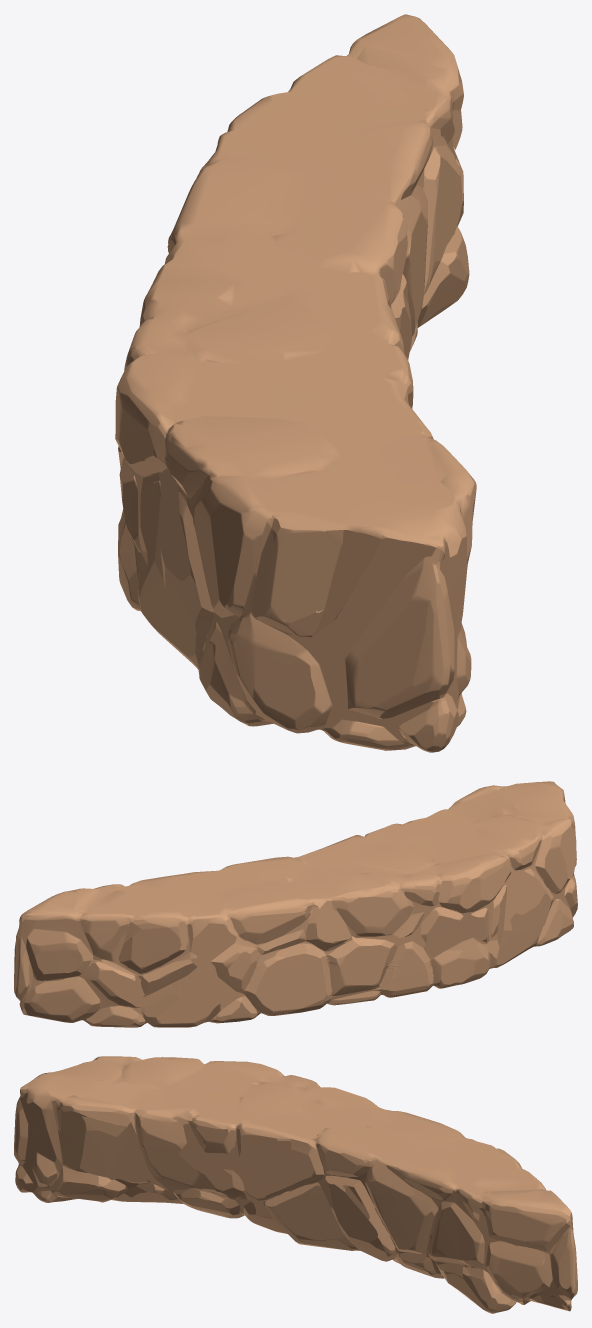
The picture shows the model from 3 angles, top to bottom: view 1: azimuth 30°, elevation 25°; view 2: azimuth 150°, elevation 25°; view 3: azimuth 270°, elevation 25°; orthographic projection. The views are drawn at different scales.
Visible parts, largest first — view 1: Mesh_5_LOD0; view 2: Mesh_5_LOD0; view 3: Mesh_5_LOD0.
Part boxes in pixels (x1,y1,x2,y2): Mesh_5_LOD0: [115, 14, 476, 752]; Mesh_5_LOD0: [14, 781, 577, 1027]; Mesh_5_LOD0: [14, 1056, 577, 1313].
Size of what is drawn, in the model's own units: 4804 by 1634 by 7081.
